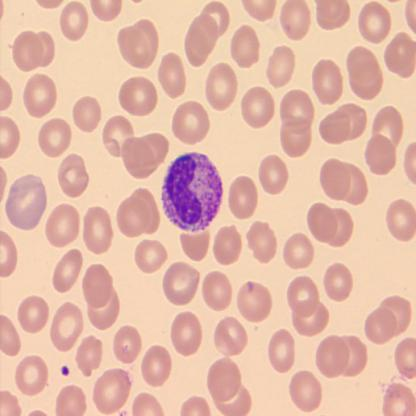Band Neutrophil: (160, 149, 226, 234)
